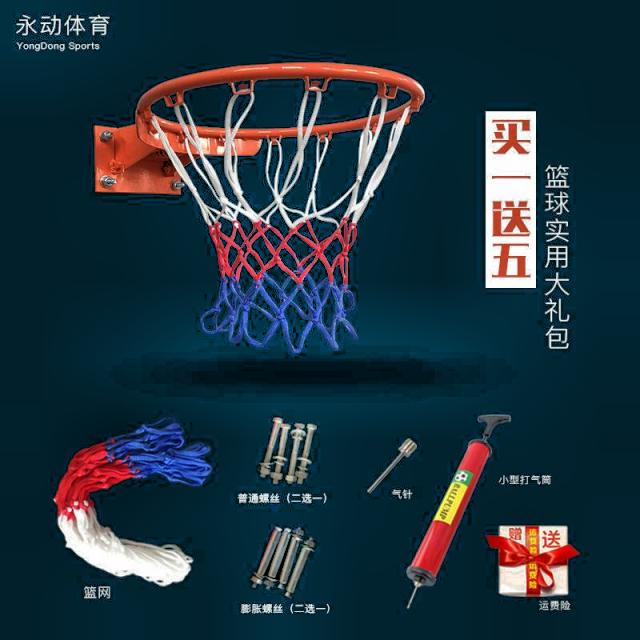rim: (137, 62, 426, 351)
